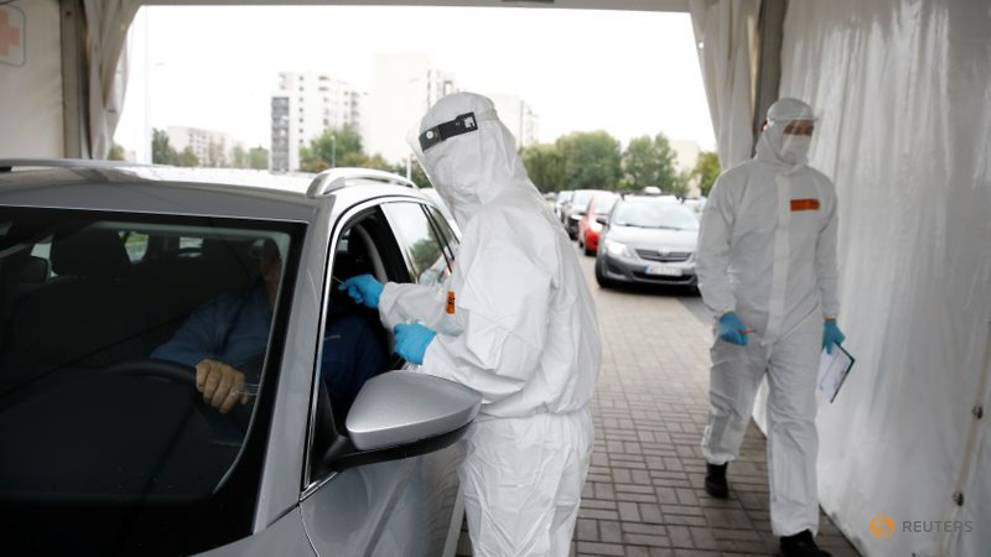Coverall: (387, 94, 595, 557), (693, 94, 849, 531)
Gloves: (387, 318, 440, 370), (336, 270, 387, 314), (712, 310, 752, 346), (821, 317, 847, 354)
with_mask: (767, 122, 814, 169)
